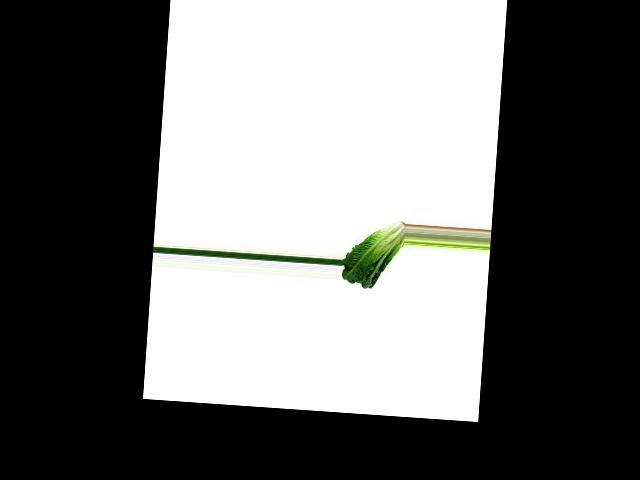lettuce: (341, 217, 405, 292)
